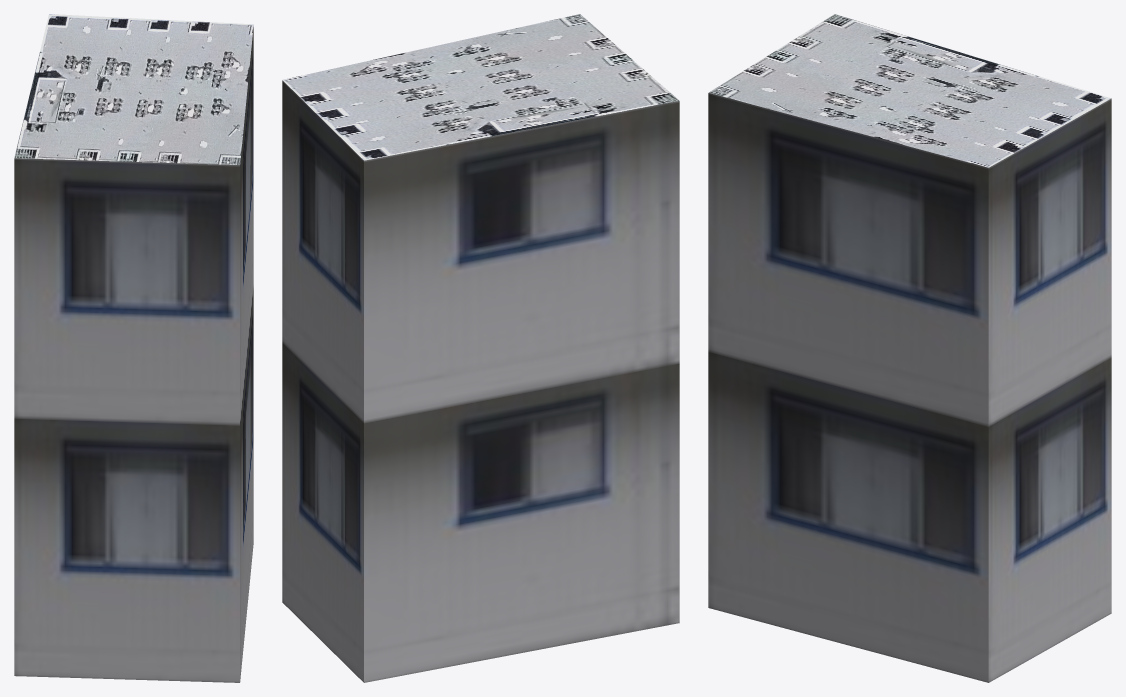
Rendered from ResTex__1100.fbx.
3 renders of one model, left to right at view 1: azimuth 30°, elevation 25°; view 2: azimuth 150°, elevation 25°; view 3: azimuth 270°, elevation 25°, orthographic.
Parts seen in each view (by area): view 1: CityEngineMaterial_9_m, CityEngineMaterial_4_m; view 2: CityEngineMaterial_9_m, CityEngineMaterial_4_m; view 3: CityEngineMaterial_9_m, CityEngineMaterial_4_m.
Boxes of the visible parts, <box> form: CityEngineMaterial_9_m: <box>14,27,253,682</box>; CityEngineMaterial_4_m: <box>14,14,253,164</box>; CityEngineMaterial_9_m: <box>282,80,679,682</box>; CityEngineMaterial_4_m: <box>282,14,679,160</box>; CityEngineMaterial_9_m: <box>708,93,1111,682</box>; CityEngineMaterial_4_m: <box>708,14,1110,167</box>.
Size of the model in its own units: 3.84 by 6 by 4.26.
Materials: 2 (2 with a texture image).
